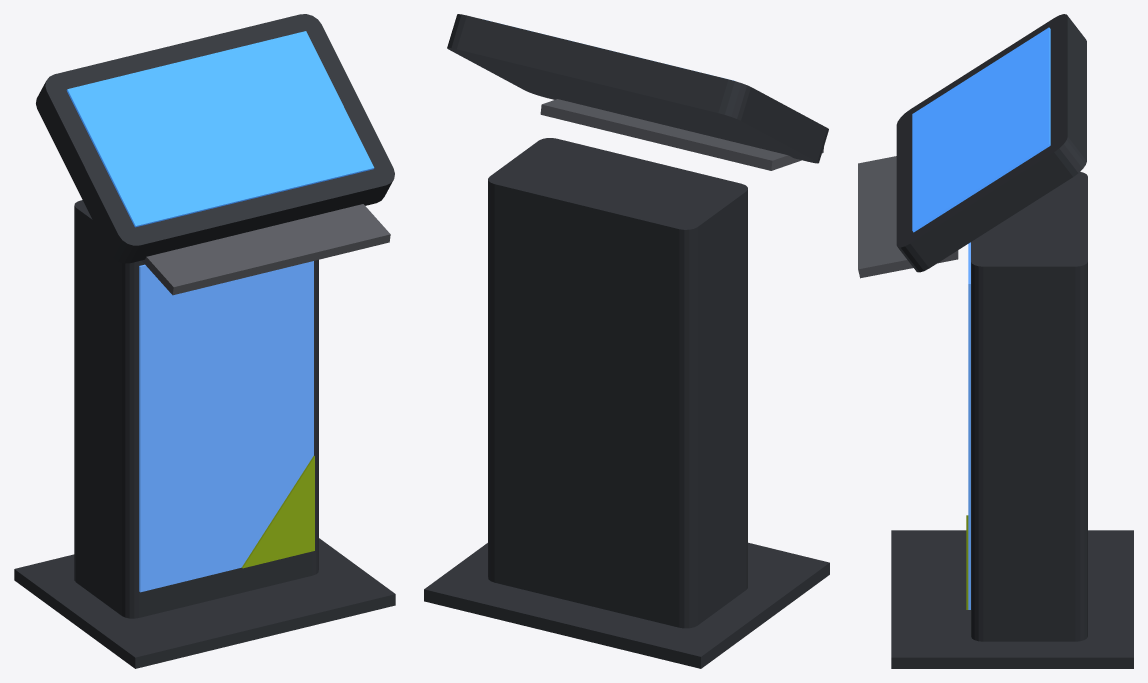
The model's file is supervision_terminal.glb.
The picture shows the model from 3 angles, left to right: view 1: azimuth 30°, elevation 25°; view 2: azimuth 150°, elevation 25°; view 3: azimuth 270°, elevation 25°; orthographic projection. The views are drawn at different scales.
Visible parts, largest first — view 1: terminal__anthracite, terminal__panel_glow, terminal__screen_on, terminal__anthracite_lt, terminal__lime; view 2: terminal__anthracite, terminal__anthracite_lt; view 3: terminal__anthracite, terminal__screen_on, terminal__anthracite_lt, terminal__panel_glow.
Boxes of the visible parts, left/top/right/bottom form: terminal__anthracite: left=14, top=14, right=395, bottom=668; terminal__panel_glow: left=139, top=261, right=313, bottom=592; terminal__screen_on: left=66, top=31, right=374, bottom=227; terminal__anthracite_lt: left=141, top=204, right=390, bottom=295; terminal__lime: left=241, top=456, right=314, bottom=568; terminal__anthracite: left=424, top=14, right=829, bottom=668; terminal__anthracite_lt: left=540, top=99, right=823, bottom=170; terminal__anthracite: left=891, top=14, right=1133, bottom=668; terminal__screen_on: left=912, top=27, right=1050, bottom=232; terminal__anthracite_lt: left=858, top=156, right=958, bottom=278; terminal__panel_glow: left=968, top=242, right=970, bottom=609.
Size of the model in its own units: 0.76 by 1.4 by 0.6599.
